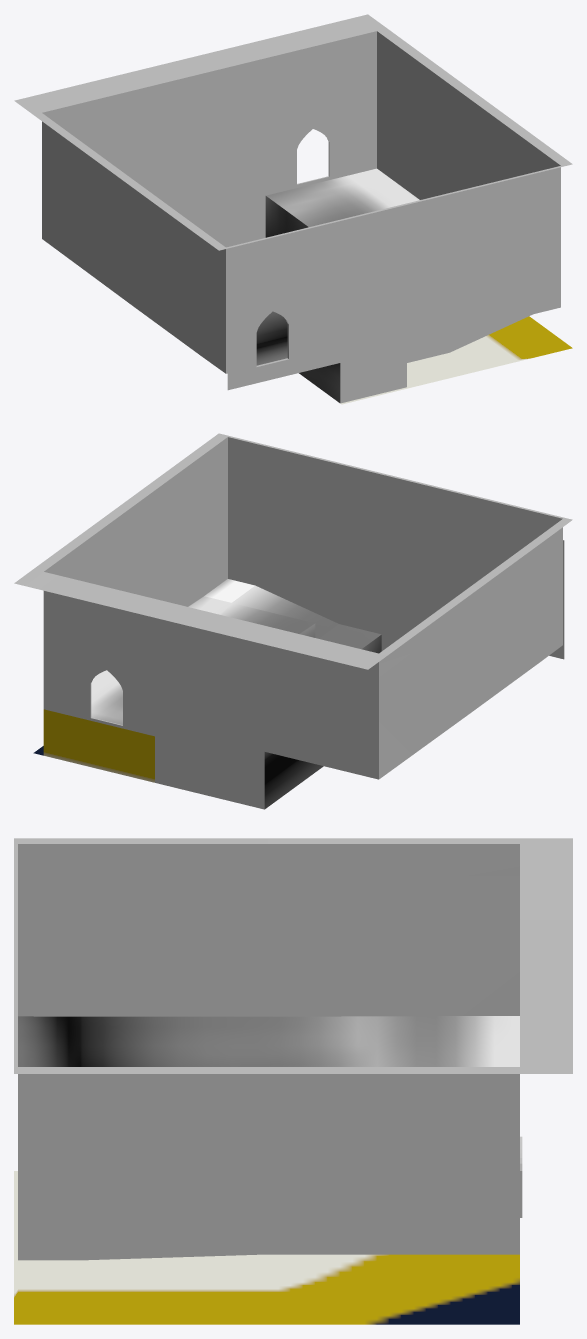
File: BFCTest.fbx
3 renders of one model, top to bottom at view 1: azimuth 30°, elevation 25°; view 2: azimuth 150°, elevation 25°; view 3: azimuth 270°, elevation 25°, orthographic. The views are drawn at different scales.
Parts seen in each view (by area): view 1: OuterShell; view 2: OuterShell; view 3: OuterShell.
Boxes of the visible parts, x1,y1,x2,y2 form: OuterShell: (14,14,572,404); OuterShell: (14,433,572,809); OuterShell: (14,838,572,1324).
Bounding box in the file's own units: 2501 × 1241 × 2506.
